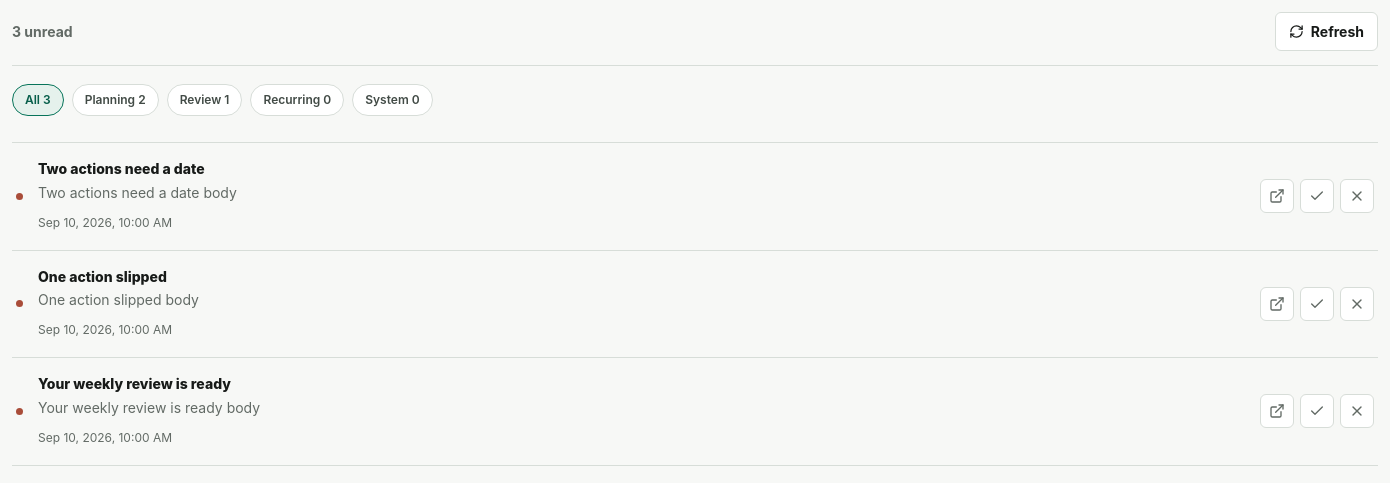
Test: notification kinds › narrows the queue to one kind and counts the whole queue, not the filter
The width and height of the screenshot is (1390, 483).
expect the tab "System 0" is shown: met, box [352,84,433,116]
Click the tab "Planning 2" at (115, 100), box [72,84,159,116]
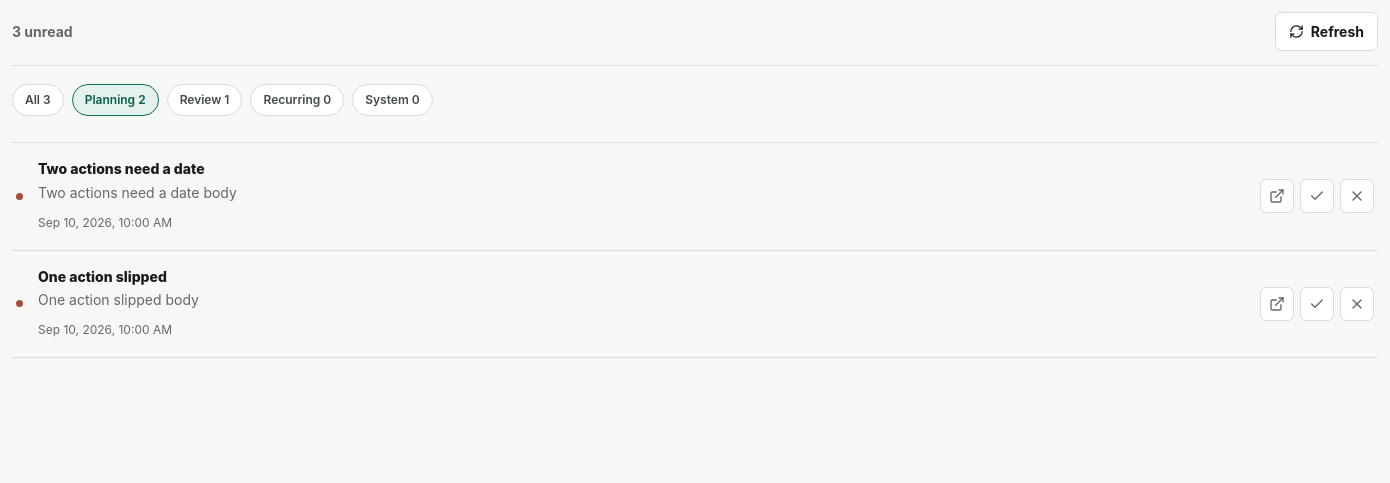
expect the text "3 unread" is shown: met, box [12,21,73,42]
expect the heading "Your weekly review is ready" is gone: met
